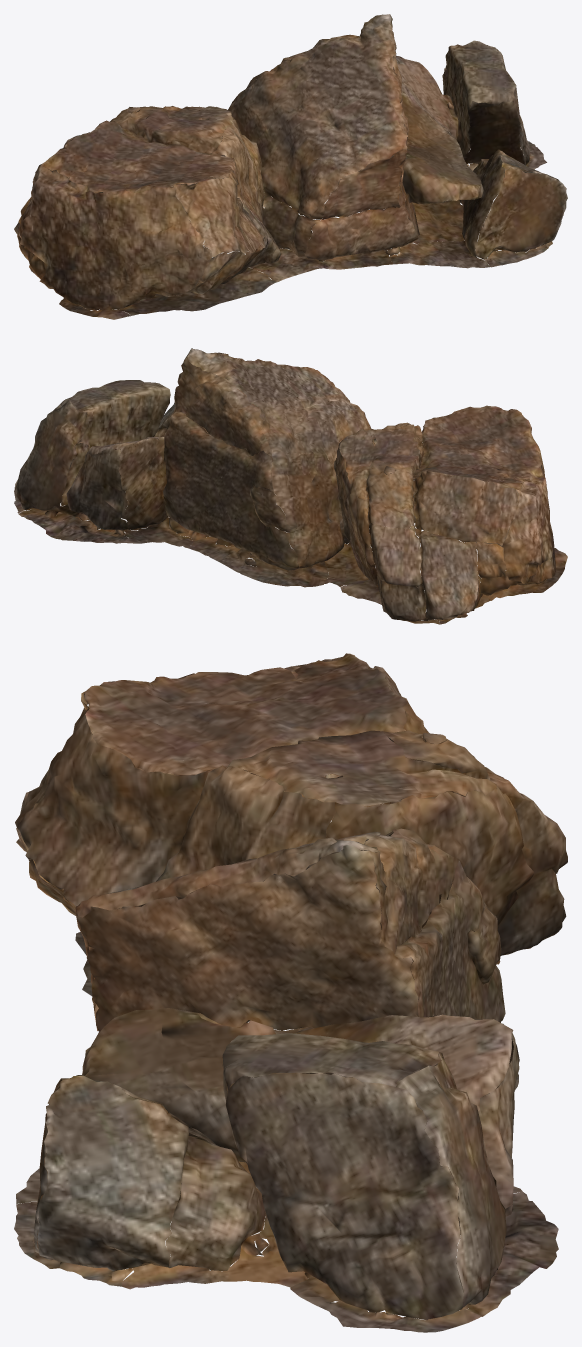
Rendered from namaqualand_boulder_02.glb.
3 renders of one model, top to bottom at view 1: azimuth 30°, elevation 25°; view 2: azimuth 150°, elevation 25°; view 3: azimuth 270°, elevation 25°, orthographic. The views are drawn at different scales.
Visible parts, largest first — view 1: boulder_02; view 2: boulder_02; view 3: boulder_02.
Boxes of the visible parts, x1=… form: boulder_02: x1=14, y1=14, x2=567, y2=319; boulder_02: x1=14, y1=348, x2=567, y2=624; boulder_02: x1=14, y1=653, x2=567, y2=1332.
Size of the model in its own units: 2.53 by 0.8812 by 1.23.
1 material, 1 textured.
